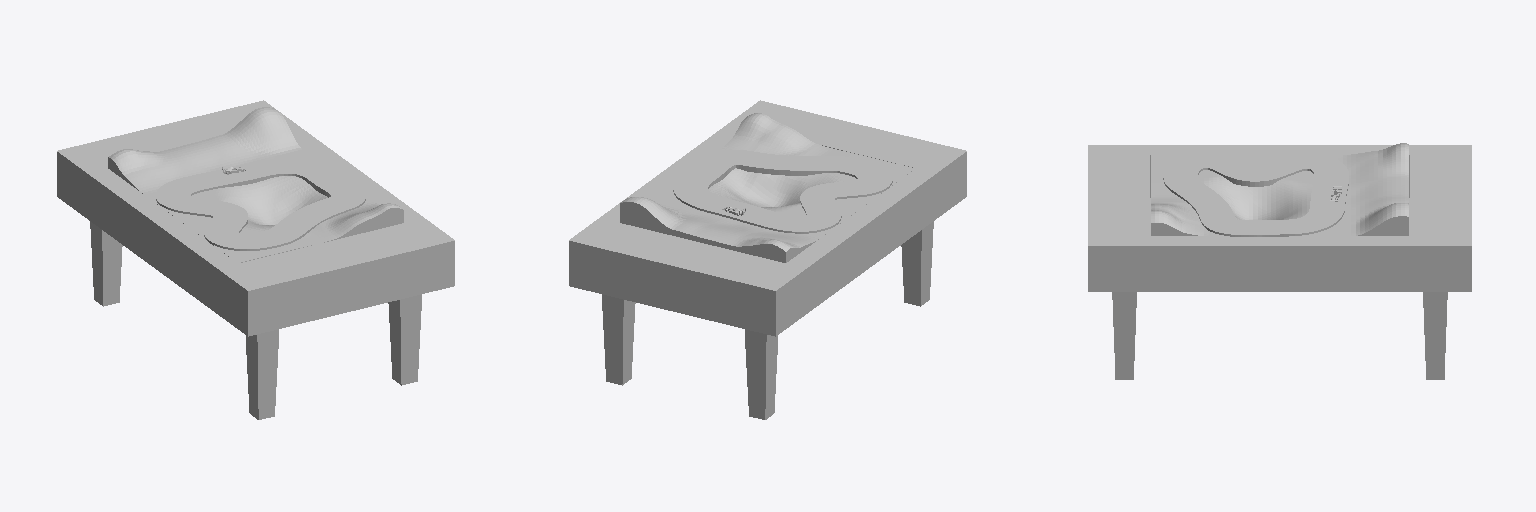
The model's file is NewestTisch3.obj.
3 renders of one model, left to right at view 1: azimuth 30°, elevation 25°; view 2: azimuth 150°, elevation 25°; view 3: azimuth 270°, elevation 25°, orthographic.
Parts seen in each view (by area): view 1: Tischplatte_wood_table_001, Landschaft_aerial_grass_rock, off, Bein1_wood_table_001, Bein4_wood_table_001.003, Bein3_wood_table_001.002; view 2: Tischplatte_wood_table_001, Landschaft_aerial_grass_rock, off, Bein2_wood_table_001.001, Bein3_wood_table_001.002, Bein4_wood_table_001.003; view 3: Tischplatte_wood_table_001, Landschaft_aerial_grass_rock, off, Bein1_wood_table_001, Bein2_wood_table_001.001.
Boxes of the visible parts, <box> form: Tischplatte_wood_table_001: <box>57,100,454,336</box>; Landschaft_aerial_grass_rock: <box>108,107,403,262</box>; off: <box>156,159,365,250</box>; Bein1_wood_table_001: <box>388,294,421,385</box>; Bein4_wood_table_001.003: <box>246,329,278,419</box>; Bein3_wood_table_001.002: <box>90,221,122,306</box>; Tischplatte_wood_table_001: <box>569,100,966,336</box>; Landschaft_aerial_grass_rock: <box>620,113,915,262</box>; off: <box>673,150,892,233</box>; Bein2_wood_table_001.001: <box>602,294,635,385</box>; Bein3_wood_table_001.002: <box>745,329,777,419</box>; Bein4_wood_table_001.003: <box>901,221,933,306</box>; Tischplatte_wood_table_001: <box>1088,145,1471,291</box>; Landschaft_aerial_grass_rock: <box>1151,143,1408,235</box>; off: <box>1163,153,1348,236</box>; Bein1_wood_table_001: <box>1112,292,1136,379</box>; Bein2_wood_table_001.001: <box>1423,292,1447,379</box>.
Bounding box in the file's own units: 5 × 3.91 × 8.